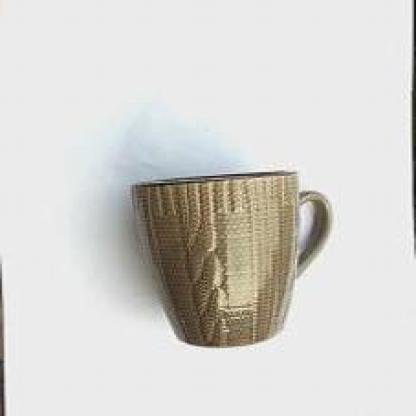mug: (106, 173, 330, 361)
